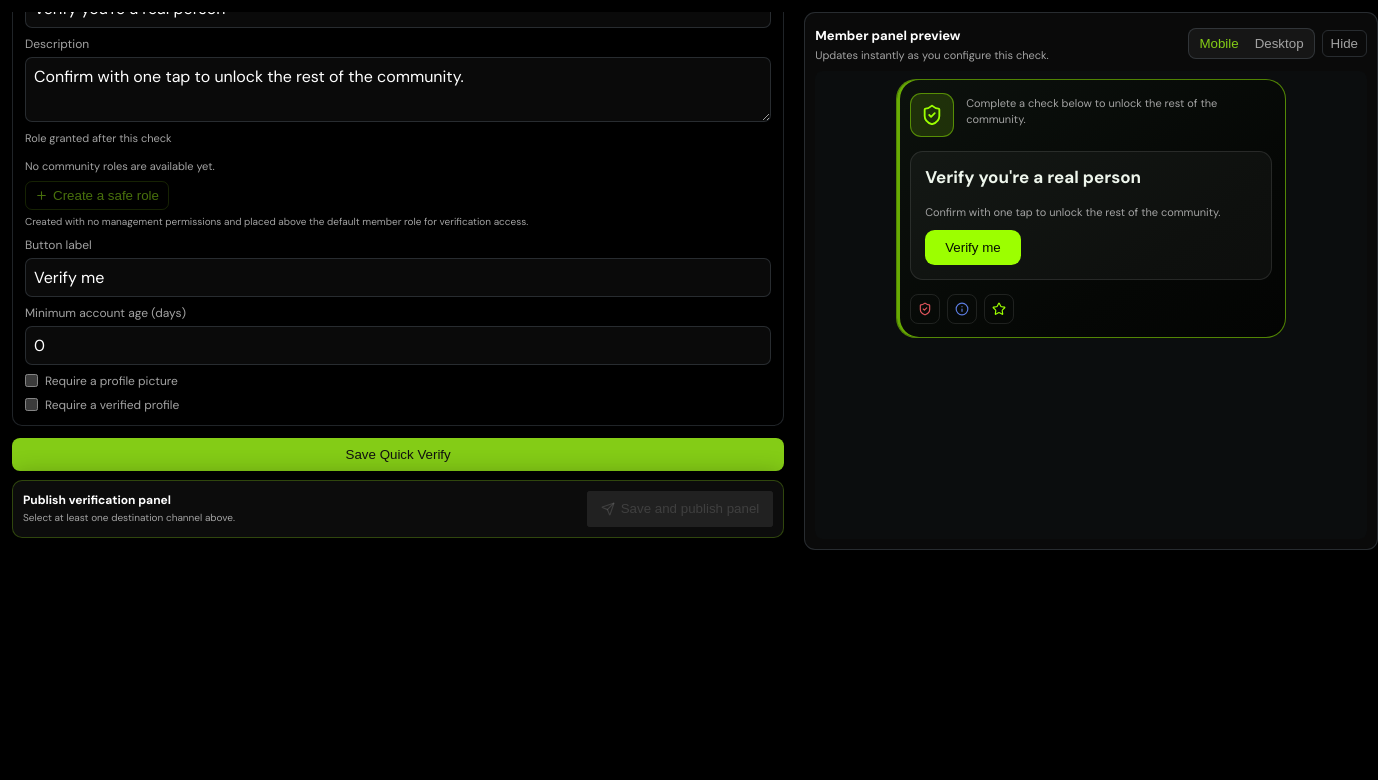
Test case: VerificationToolDashboard › shows a useful error when saving a verification check fails
(page scrolled)
Step 1. Click the button "Save Quick Verify" → coordinates (398, 454), box [12,438,784,470]
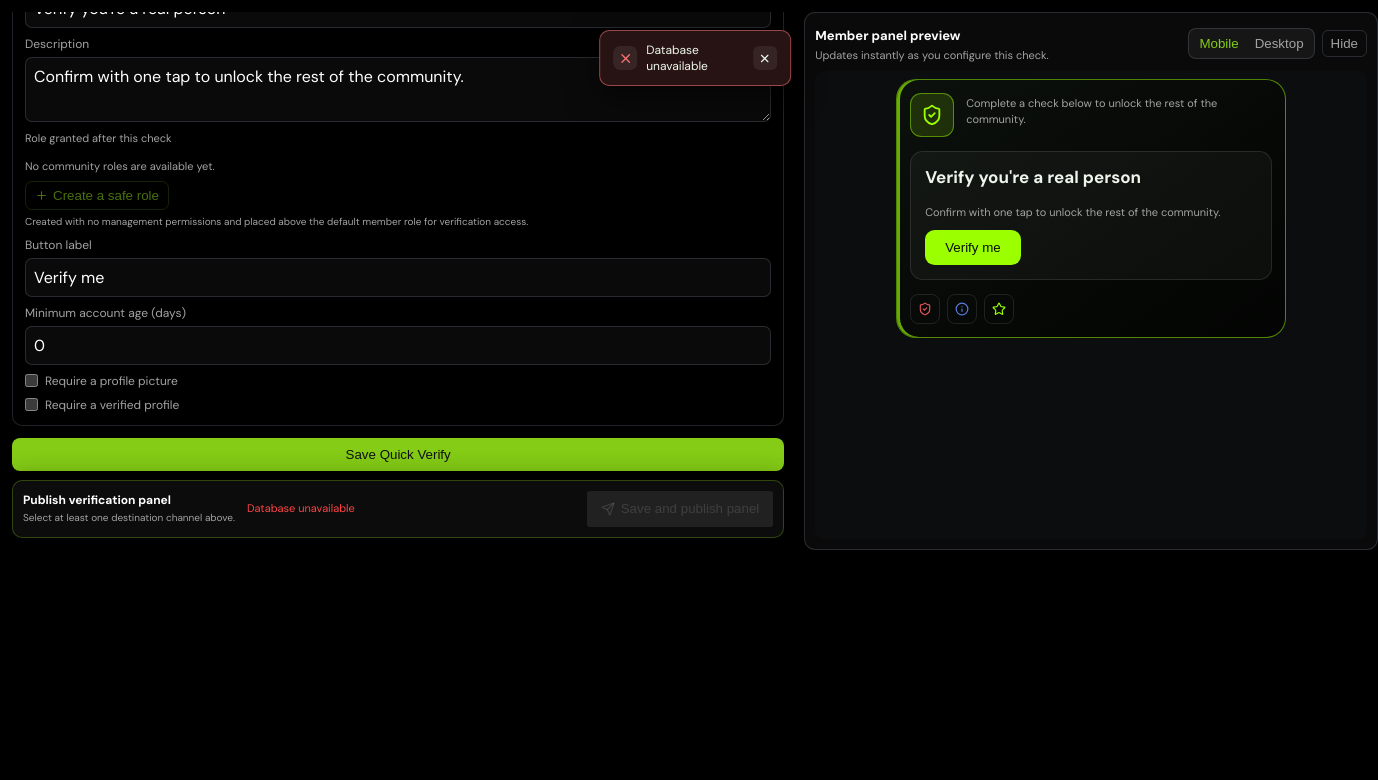
Expected: the message "Database unavailable" in the row of "Publish verification panel" is shown, [247,501,355,515]
